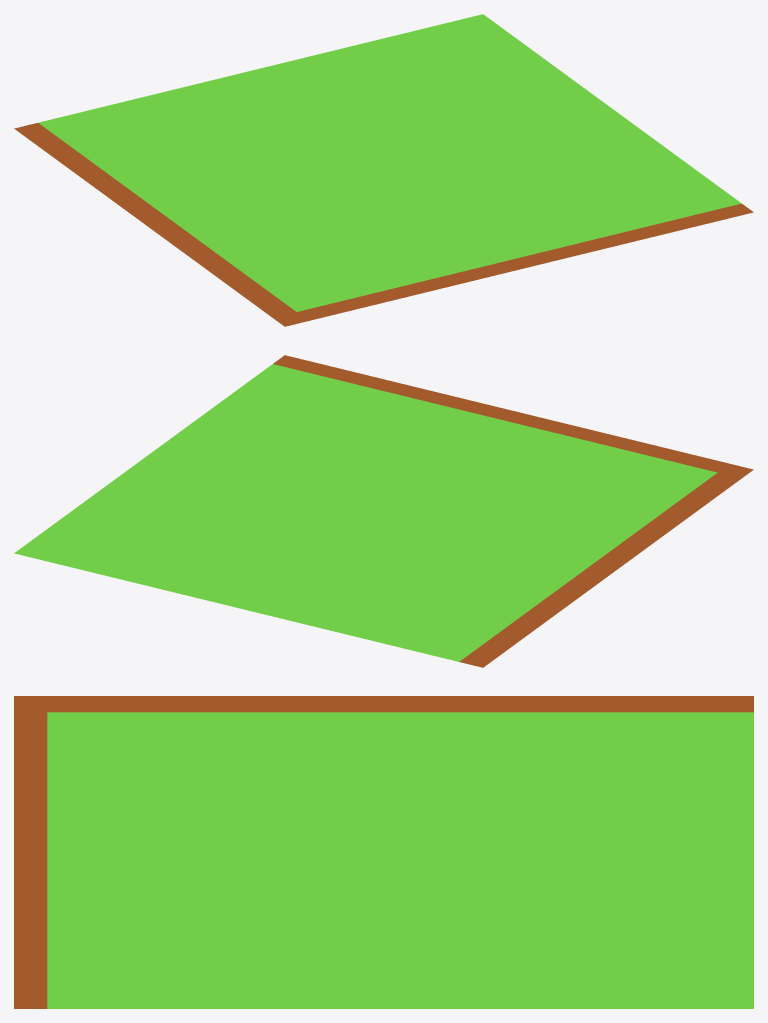
Rendered from grassBorderCorner.fbx.
The picture shows the model from 3 angles, top to bottom: view 1: azimuth 30°, elevation 25°; view 2: azimuth 150°, elevation 25°; view 3: azimuth 270°, elevation 25°; orthographic projection. The views are drawn at different scales.
Visible parts, largest first — view 1: grassBorderCorner; view 2: grassBorderCorner; view 3: grassBorderCorner.
Boxes of the visible parts, <box> form: grassBorderCorner: <box>14,14,753,326</box>; grassBorderCorner: <box>14,355,753,667</box>; grassBorderCorner: <box>14,696,753,1008</box>.
Size of the model in its own units: 200 by 200 by 0.
